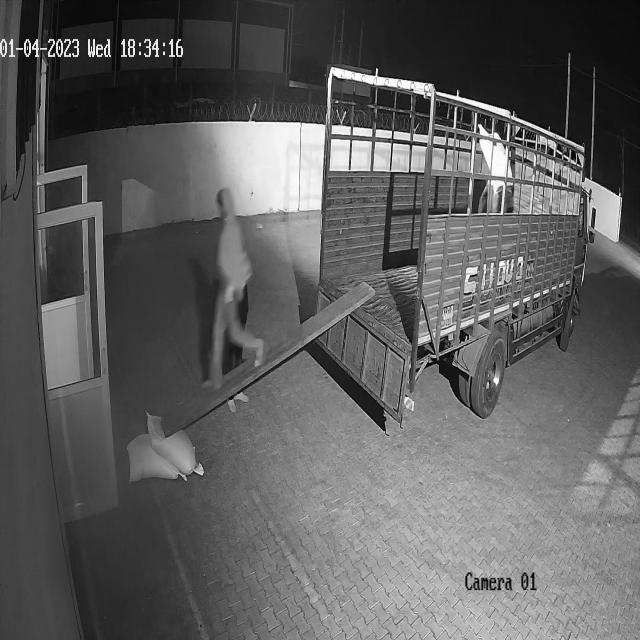sack: (145, 410, 203, 474), (126, 434, 187, 483), (478, 123, 514, 193)
